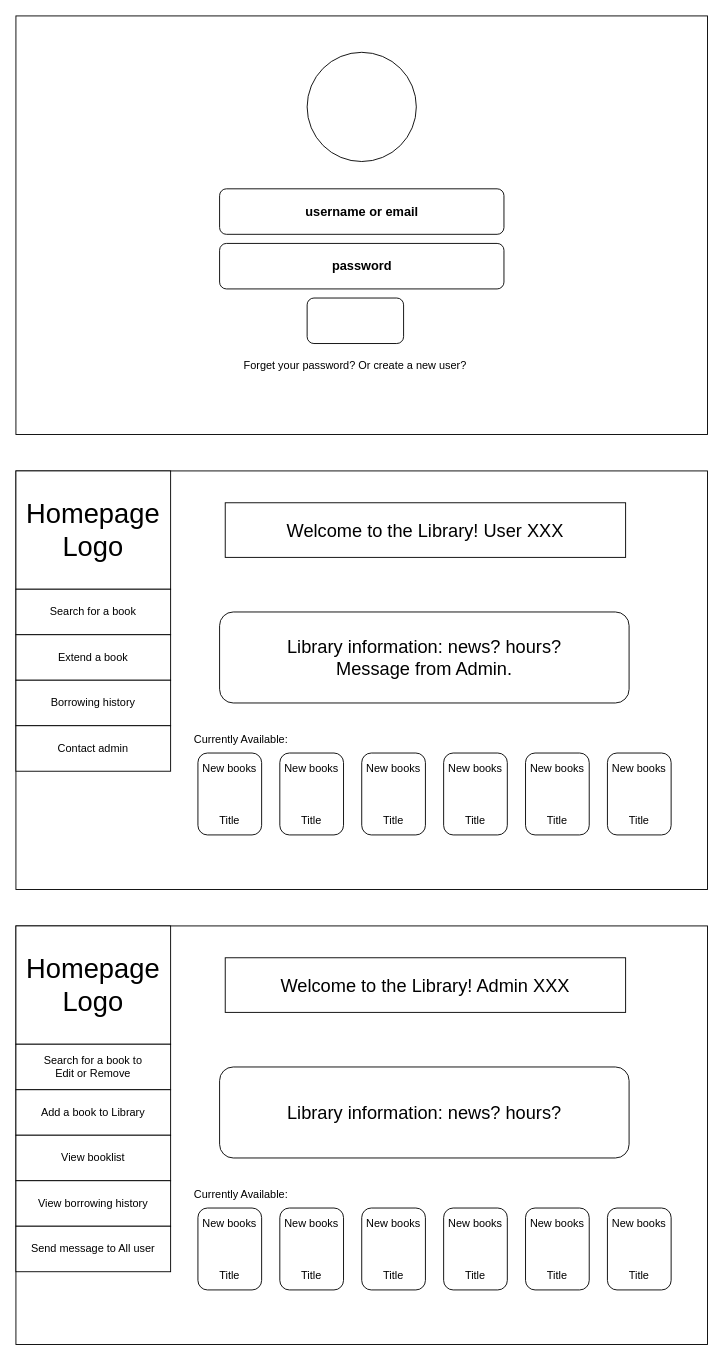
Image size: 723x1360. Some labels were removed from this diagram. Each missing label, with the centre of its shape:
"Login" goes at (355,320).
"Logo" goes at (361,106).
